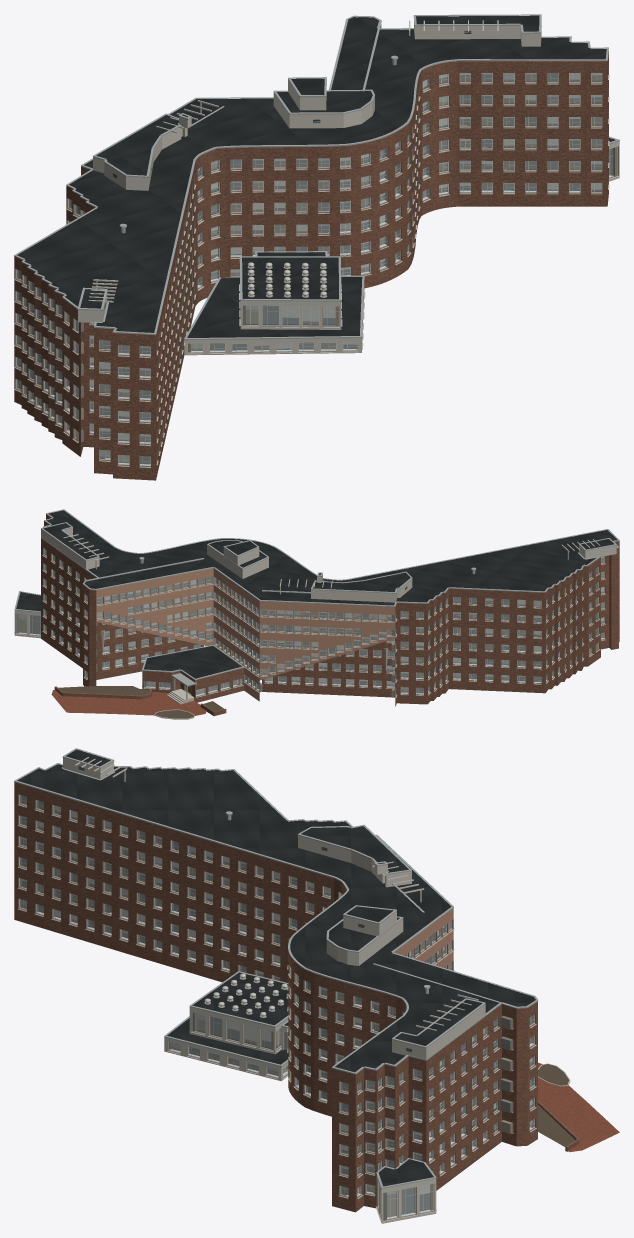
The model's file is baker-mobile.glb.
The picture shows the model from 3 angles, top to bottom: view 1: azimuth 30°, elevation 25°; view 2: azimuth 150°, elevation 25°; view 3: azimuth 270°, elevation 25°; orthographic projection. The views are drawn at different scales.
Parts seen in each view (by area): view 1: Baker brick, Baker roof, Baker stone, Baker glass, Baker frame, Baker coping, Baker reveal, Baker room, Baker roomWarm, Baker shade, Baker glassLight, Baker shadeDark; view 2: Baker brick, Baker roof, Baker tile, Baker glass, Baker stone, Baker frame, Baker room, Baker reveal, Baker coping, Baker roomWarm, Baker glassLight, Baker north court ground paver (+5 smaller); view 3: Baker brick, Baker roof, Baker stone, Baker glass, Baker frame, Baker room, Baker coping, Baker reveal, Baker roomWarm, Baker glassLight, Baker shade, Baker north court ground paver (+3 smaller).
Boxes of the visible parts, bbox=[...] form: Baker brick: bbox=[14, 24, 608, 480]; Baker roof: bbox=[17, 15, 615, 337]; Baker stone: bbox=[14, 20, 619, 468]; Baker glass: bbox=[17, 73, 612, 464]; Baker frame: bbox=[16, 73, 618, 466]; Baker coping: bbox=[14, 14, 619, 340]; Baker reveal: bbox=[15, 64, 618, 466]; Baker room: bbox=[17, 73, 610, 464]; Baker roomWarm: bbox=[17, 74, 616, 463]; Baker shade: bbox=[18, 73, 601, 440]; Baker glassLight: bbox=[17, 73, 601, 463]; Baker shadeDark: bbox=[18, 73, 579, 462]; Baker brick: bbox=[41, 514, 619, 706]; Baker roof: bbox=[16, 510, 617, 678]; Baker tile: bbox=[96, 568, 395, 701]; Baker glass: bbox=[30, 555, 604, 693]; Baker stone: bbox=[14, 528, 616, 697]; Baker frame: bbox=[16, 548, 604, 696]; Baker room: bbox=[16, 549, 604, 693]; Baker reveal: bbox=[15, 548, 605, 697]; Baker coping: bbox=[14, 509, 619, 699]; Baker roomWarm: bbox=[18, 560, 604, 697]; Baker glassLight: bbox=[16, 549, 604, 695]; Baker north court ground paver: bbox=[51, 689, 206, 715]; Baker brick: bbox=[14, 782, 537, 1212]; Baker roof: bbox=[17, 749, 535, 1186]; Baker stone: bbox=[17, 757, 536, 1223]; Baker glass: bbox=[20, 800, 533, 1215]; Baker frame: bbox=[19, 794, 534, 1219]; Baker room: bbox=[20, 795, 533, 1220]; Baker coping: bbox=[14, 748, 538, 1188]; Baker reveal: bbox=[18, 794, 535, 1220]; Baker roomWarm: bbox=[20, 805, 533, 1218]; Baker glassLight: bbox=[20, 795, 533, 1218]; Baker shade: bbox=[20, 805, 532, 1194]; Baker north court ground paver: bbox=[529, 1062, 619, 1152].
Size of what is drawn, in the model's own units: 101 by 23.84 by 79.64.
Materials: 17 (3 with a texture image).
